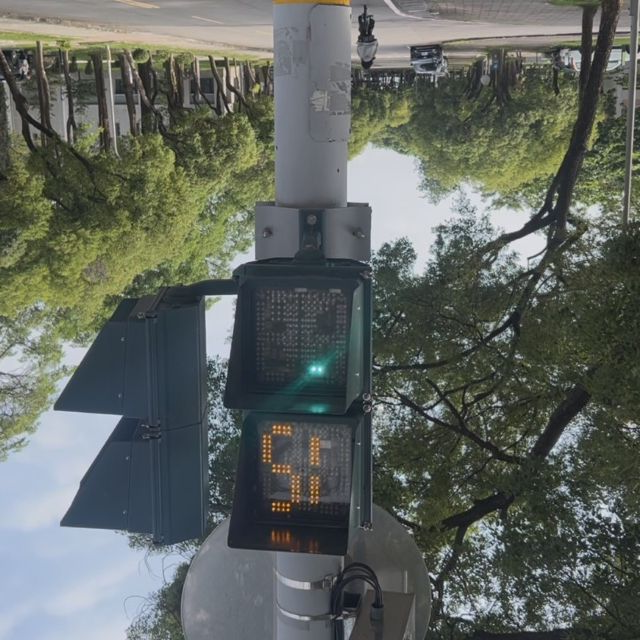green_light: (229, 265, 369, 558)
